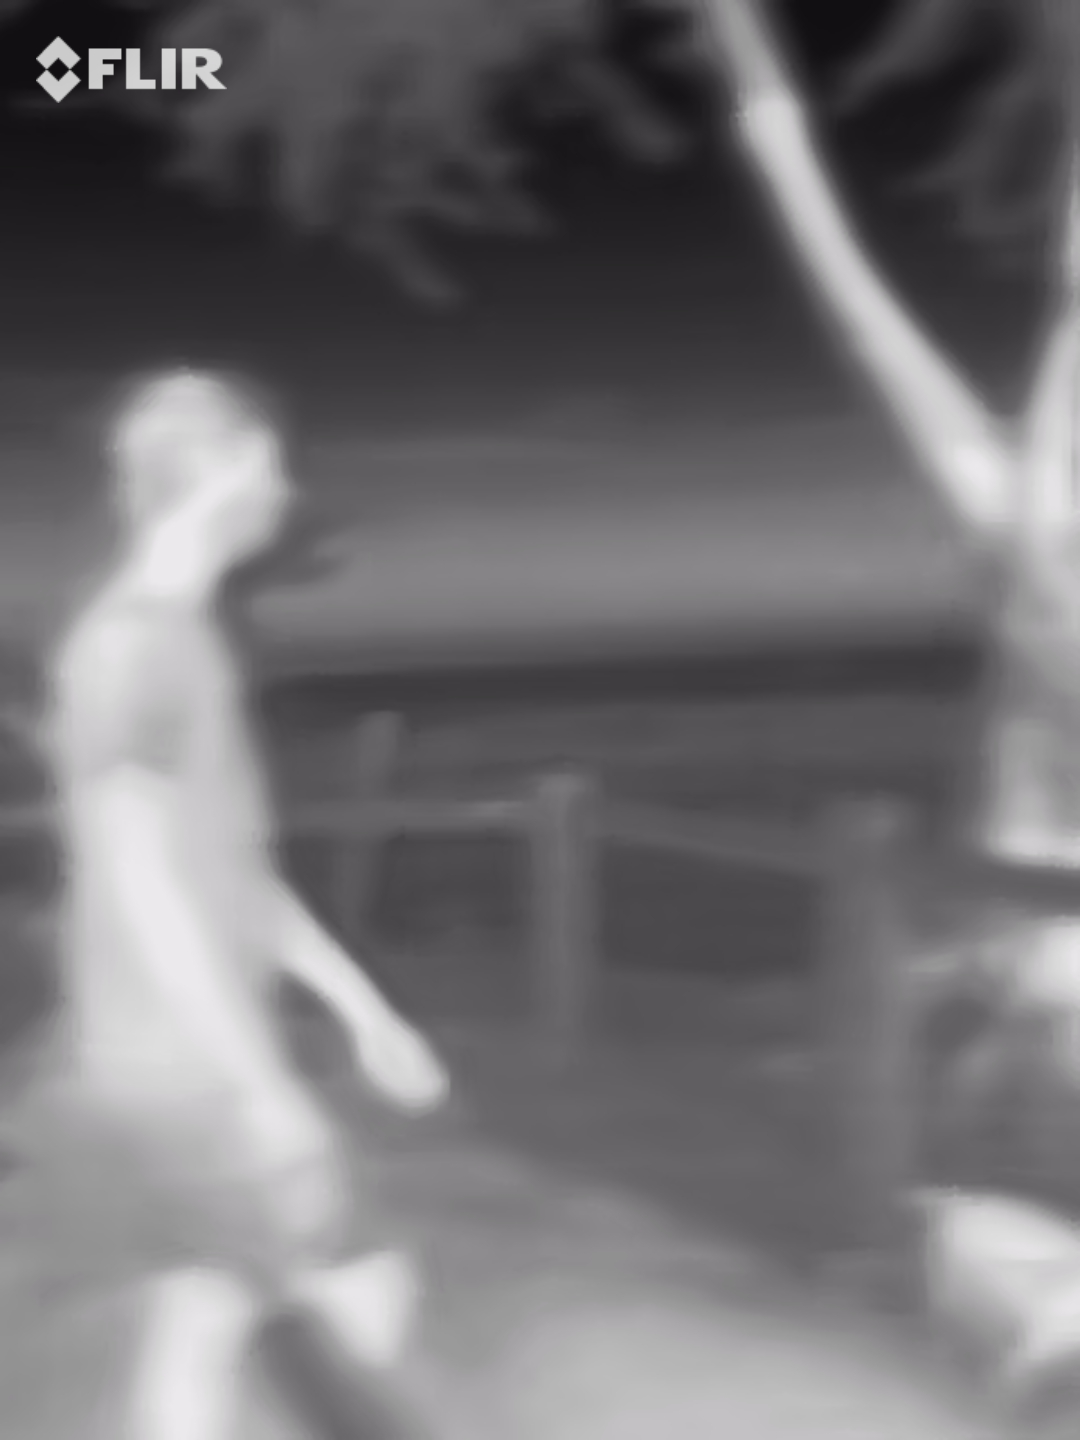head: (109, 360, 298, 571)
